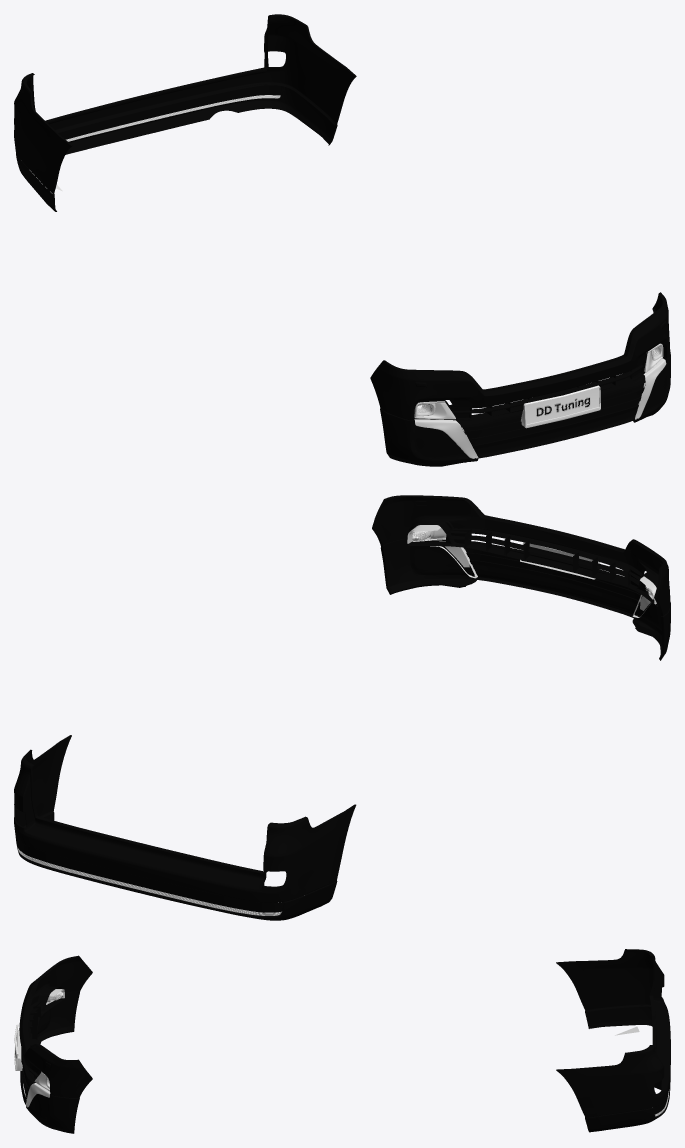
Rendered from юбка2021.glb.
The picture shows the model from 3 angles, top to bottom: view 1: azimuth 30°, elevation 25°; view 2: azimuth 150°, elevation 25°; view 3: azimuth 270°, elevation 25°; orthographic projection. The views are drawn at different scales.
Visible parts, largest first — view 1: car, chrome, numberplate; view 2: car, chrome; view 3: car, chrome.
Part boxes in pixels (x1,y1,x2,y2): car: [14, 14, 670, 466]; chrome: [37, 95, 666, 458]; numberplate: [523, 385, 600, 428]; car: [14, 495, 670, 920]; chrome: [17, 525, 656, 915]; car: [19, 949, 670, 1133]; chrome: [17, 989, 669, 1116].
Bounding box in the file's own units: 2.27 × 0.8073 × 5.81.
5 materials, 1 textured.
